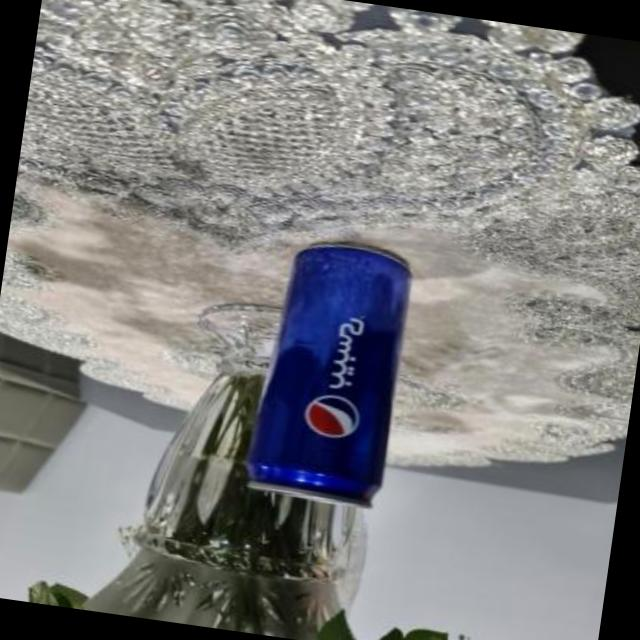metal: (248, 245, 410, 506)
